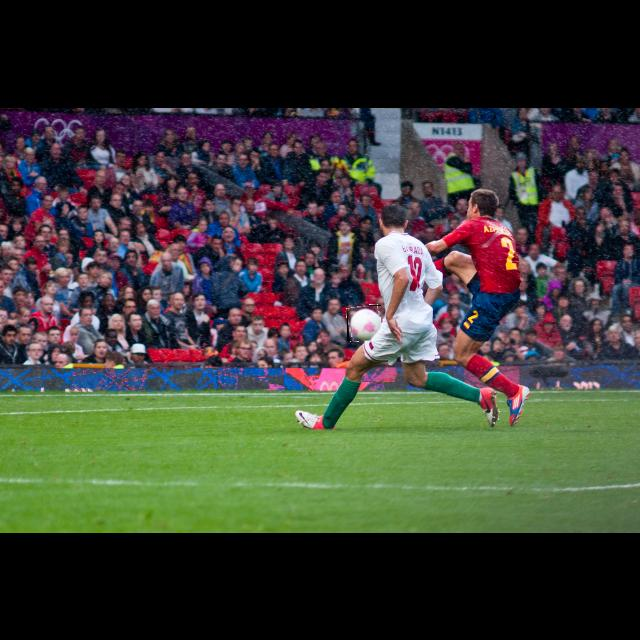Football: (347, 305, 381, 341)
